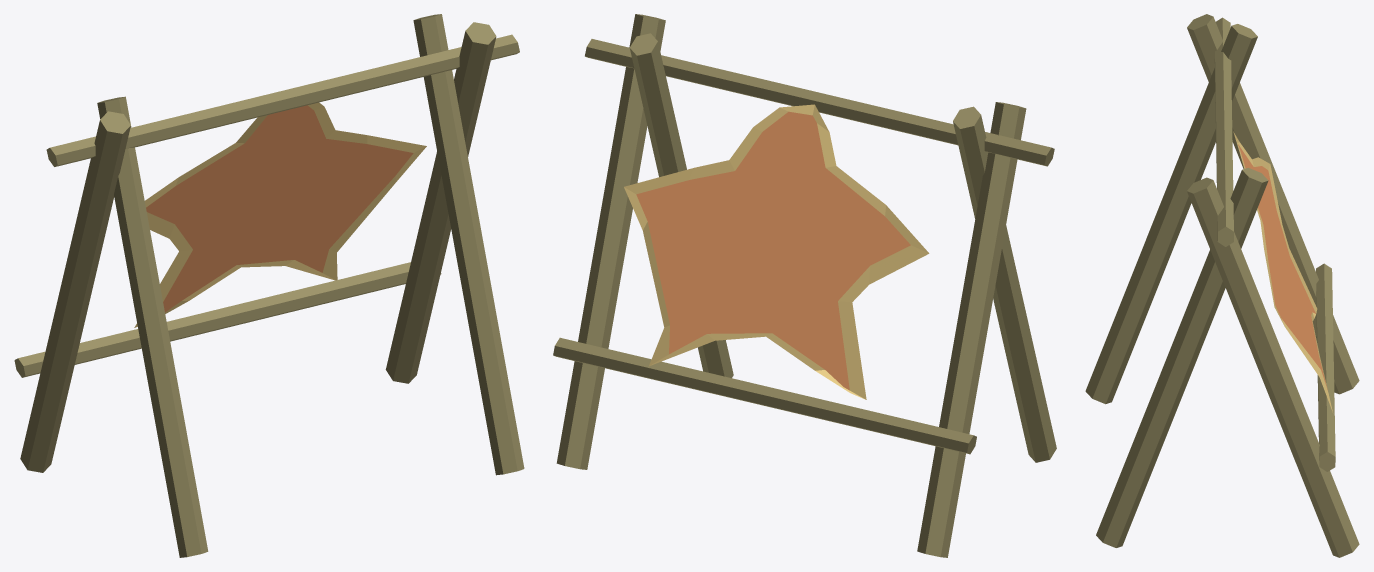
Rendered from tanning rack.fbx.
The picture shows the model from 3 angles, left to right: view 1: azimuth 30°, elevation 25°; view 2: azimuth 150°, elevation 25°; view 3: azimuth 270°, elevation 25°; orthographic projection. The views are drawn at different scales.
Parts seen in each view (by area): view 1: Cylinder; view 2: Cylinder; view 3: Cylinder.
Part boxes in pixels (box(x1,y1,x2,y2)): Cylinder: box(14, 14, 524, 557); Cylinder: box(553, 14, 1056, 557); Cylinder: box(1085, 14, 1359, 557).
Size of the model in its own units: 1.05 by 0.8766 by 0.5802.
